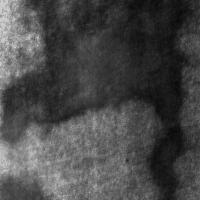patches: (1, 1, 160, 129), (42, 62, 180, 200), (58, 29, 140, 111), (144, 1, 192, 130), (0, 108, 66, 200), (148, 122, 188, 197), (1, 170, 44, 199)
